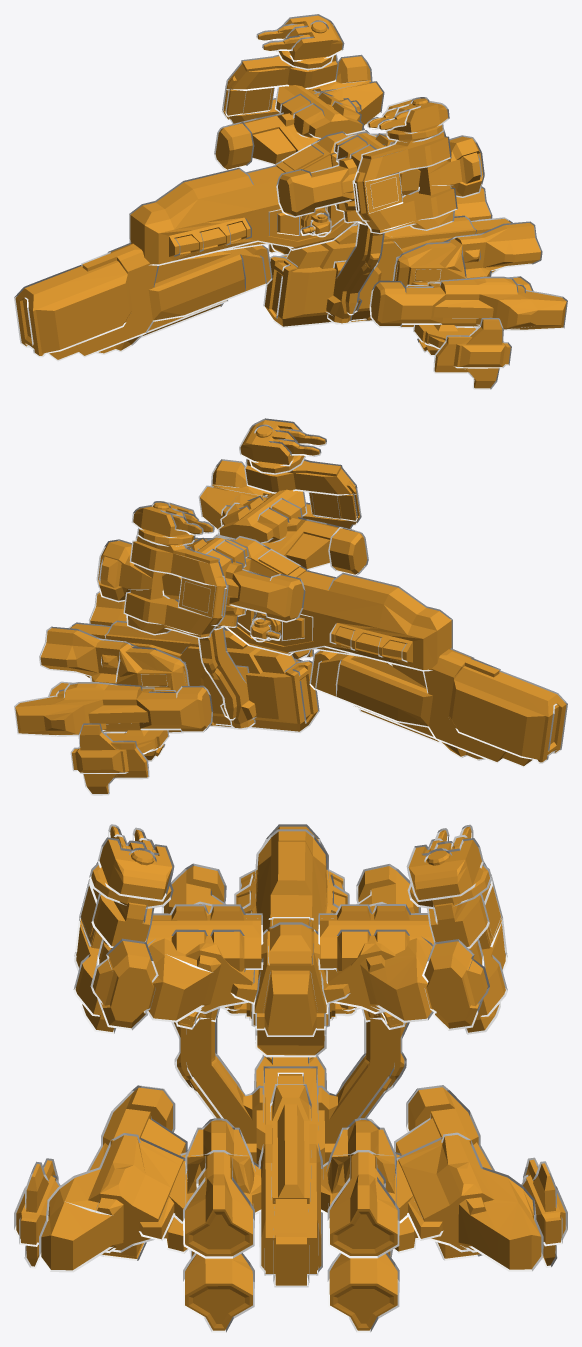
The model's file is ship9_orange.glb.
The picture shows the model from 3 angles, top to bottom: view 1: azimuth 30°, elevation 25°; view 2: azimuth 150°, elevation 25°; view 3: azimuth 270°, elevation 25°; orthographic projection. The views are drawn at different scales.
Visible parts, largest first — view 1: ME_ship_IndexedFaceSet, ME_ship_IndexedFaceSet.001; view 2: ME_ship_IndexedFaceSet, ME_ship_IndexedFaceSet.001; view 3: ME_ship_IndexedFaceSet.001, ME_ship_IndexedFaceSet.
Boxes of the visible parts, x1,y1,x2,y2 form: ME_ship_IndexedFaceSet: (14,14,484,361); ME_ship_IndexedFaceSet.001: (263,85,567,389); ME_ship_IndexedFaceSet: (96,418,567,767); ME_ship_IndexedFaceSet.001: (14,489,319,795); ME_ship_IndexedFaceSet.001: (14,904,567,1332); ME_ship_IndexedFaceSet: (73,824,507,1057).
Bounding box in the file's own units: 702 × 376 × 472.
